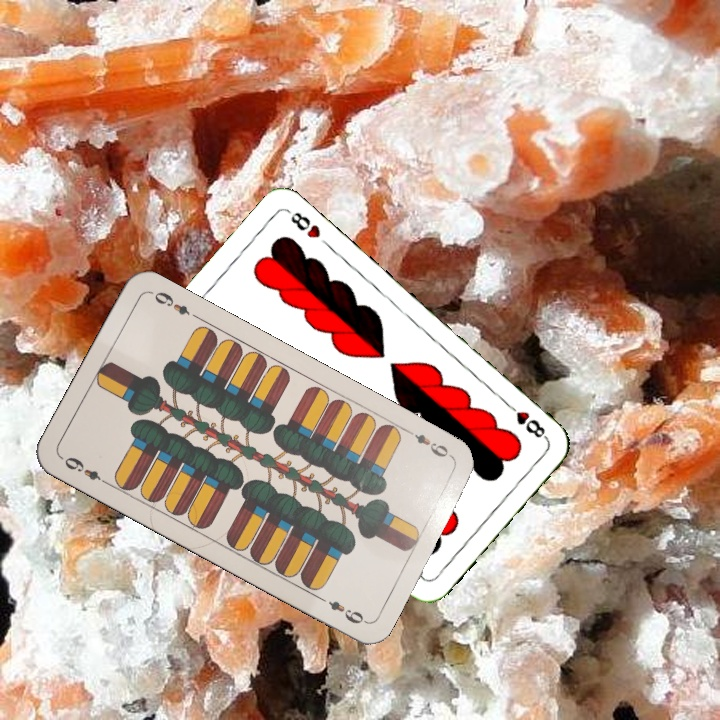E9: (403, 426, 456, 462), (60, 453, 112, 488)
H8: (501, 398, 551, 442)
